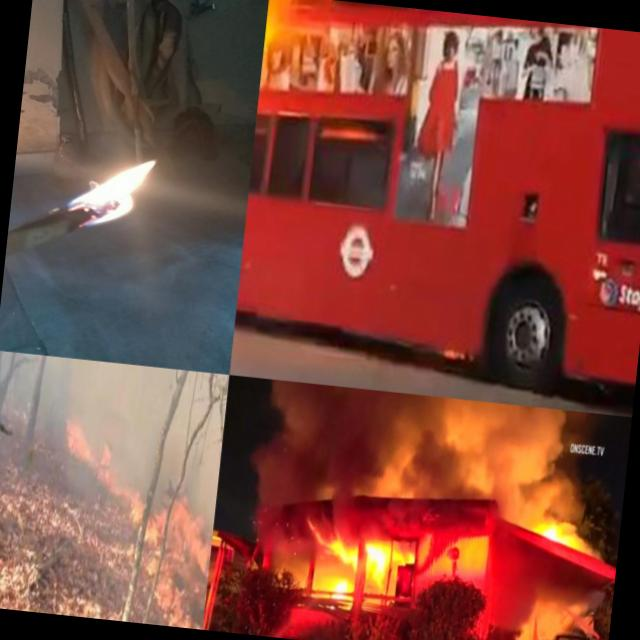fire: (38, 141, 171, 240), (136, 497, 216, 629), (303, 518, 398, 584), (58, 412, 114, 483), (529, 516, 574, 550), (321, 576, 356, 610), (394, 541, 419, 577), (125, 489, 146, 530)
smoke: (247, 378, 541, 539), (483, 559, 542, 640), (251, 513, 309, 571), (530, 474, 592, 522), (534, 407, 570, 477), (570, 520, 610, 566)
